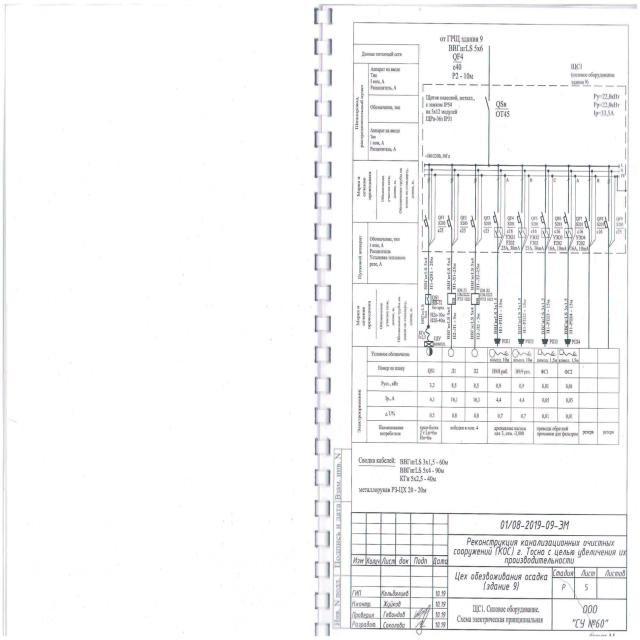-: (425, 93, 477, 123), (570, 234, 590, 252), (548, 234, 568, 252), (525, 235, 545, 252), (501, 234, 521, 251), (494, 110, 511, 120), (506, 221, 516, 234), (459, 221, 468, 235), (483, 220, 492, 234), (554, 221, 563, 234), (596, 222, 605, 235), (615, 222, 624, 235), (438, 221, 447, 234), (530, 221, 538, 234), (576, 222, 584, 235)
QD: (518, 227, 527, 238), (494, 227, 503, 237), (564, 228, 573, 238), (542, 228, 550, 238)
QF: (492, 177, 500, 226), (563, 178, 571, 226), (424, 176, 431, 228), (447, 176, 454, 228), (470, 176, 477, 228), (517, 176, 524, 225), (540, 176, 547, 224), (584, 178, 590, 232), (604, 178, 610, 231)
QS: (484, 94, 490, 111)
